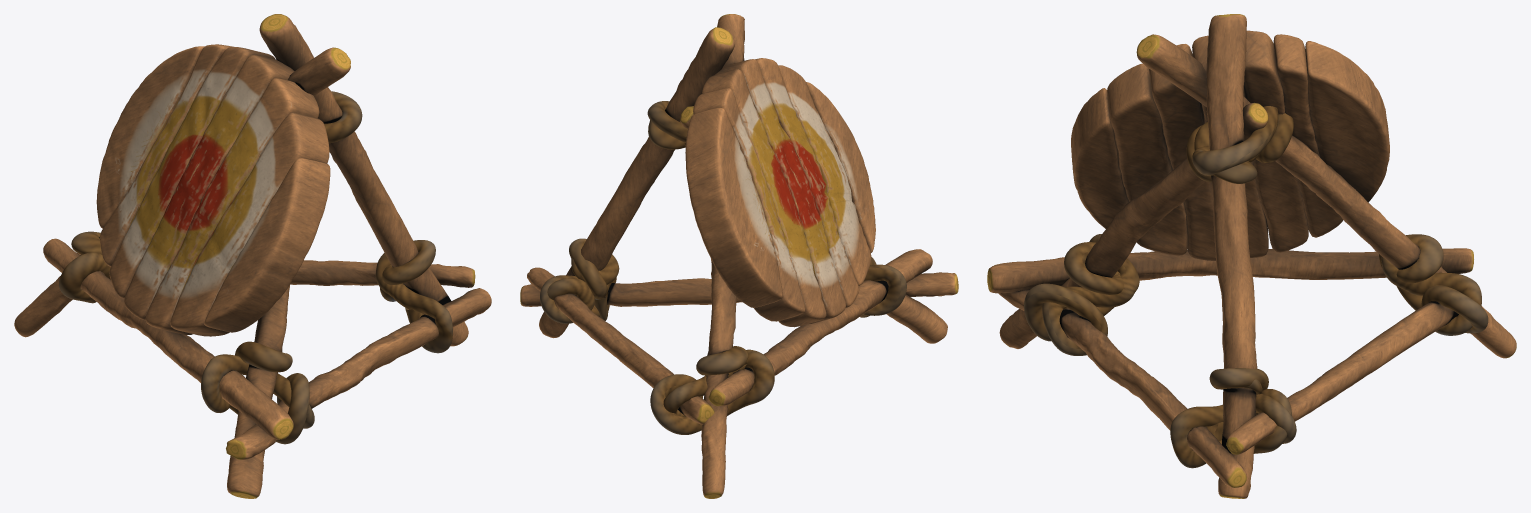
Rendered from target1.fbx.
3 renders of one model, left to right at view 1: azimuth 30°, elevation 25°; view 2: azimuth 150°, elevation 25°; view 3: azimuth 270°, elevation 25°, orthographic. The views are drawn at different scales.
Visible parts, largest first — view 1: Circle.001; view 2: Circle.001; view 3: Circle.001.
Boxes of the visible parts, <box> form: Circle.001: <box>14,14,491,498</box>; Circle.001: <box>520,14,958,498</box>; Circle.001: <box>987,14,1516,498</box>.
Size of the model in its own units: 413 by 412 by 484.
Materials: 1 (1 with a texture image).
